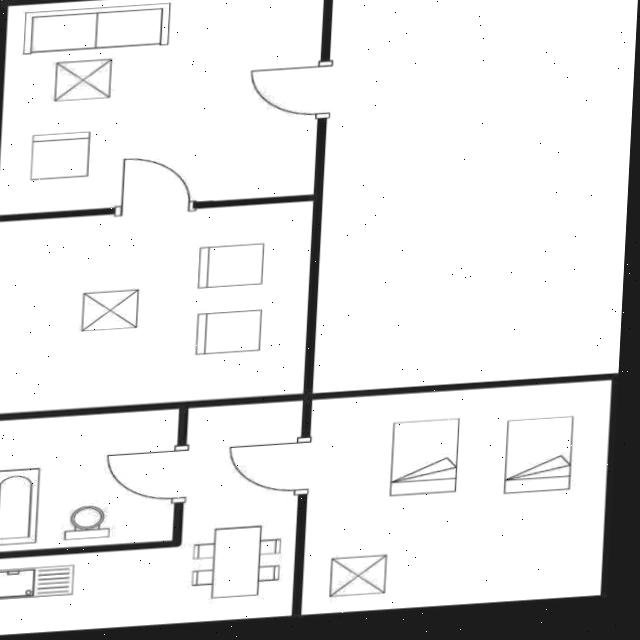room: (288, 381, 624, 615), (0, 400, 315, 634), (0, 0, 323, 215), (0, 201, 324, 413), (0, 410, 186, 552)
